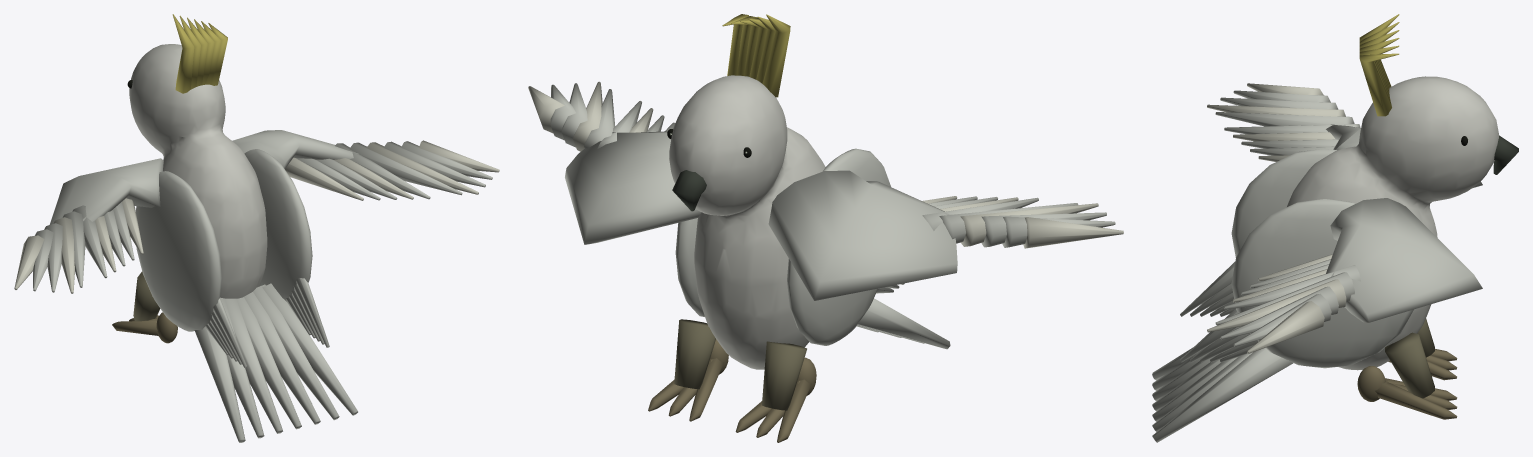
Rendered from animal_cockatoo.glb.
The picture shows the model from 3 angles, left to right: view 1: azimuth 30°, elevation 25°; view 2: azimuth 150°, elevation 25°; view 3: azimuth 270°, elevation 25°; orthographic projection. The views are drawn at different scales.
Parts seen in each view (by area): view 1: Body, FoldedWings, WingL, WingR, LegFL; view 2: Body, WingL, WingR, FoldedWings, LegFL, LegFR; view 3: Body, WingR, FoldedWings, WingL, LegFR, LegFL.
Part boxes in pixels (x1=…): Body: x1=127, y1=14, x2=357, y2=442; FoldedWings: x1=136, y1=149, x2=329, y2=367; WingL: x1=14, y1=158, x2=163, y2=293; WingR: x1=232, y1=130, x2=499, y2=200; LegFL: x1=112, y1=271, x2=177, y2=343; Body: x1=667, y1=14, x2=950, y2=369; WingL: x1=768, y1=170, x2=1123, y2=300; WingR: x1=528, y1=81, x2=701, y2=244; FoldedWings: x1=675, y1=148, x2=904, y2=345; LegFL: x1=735, y1=341, x2=816, y2=442; LegFR: x1=648, y1=319, x2=728, y2=421; Body: x1=1152, y1=14, x2=1518, y2=442; WingR: x1=1207, y1=198, x2=1482, y2=353; FoldedWings: x1=1180, y1=148, x2=1413, y2=368; WingL: x1=1207, y1=83, x2=1482, y2=188; LegFR: x1=1357, y1=332, x2=1457, y2=419; LegFL: x1=1388, y1=318, x2=1457, y2=380.
Bounding box in the file's own units: 1.16 × 0.7769 × 0.667.
